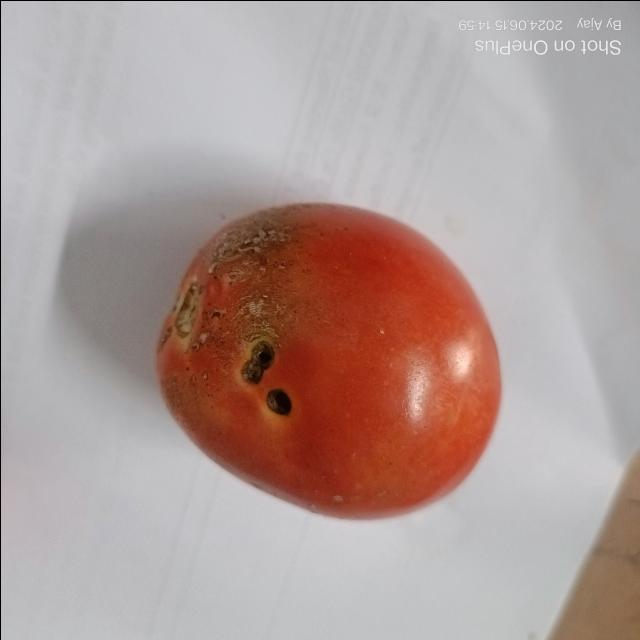fruitworm_bore: (236, 336, 300, 421)
